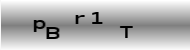1: (90, 11, 103, 24)
B: (45, 26, 60, 39)
T: (118, 24, 133, 39)
p: (32, 19, 45, 32)
r: (74, 13, 85, 25)
